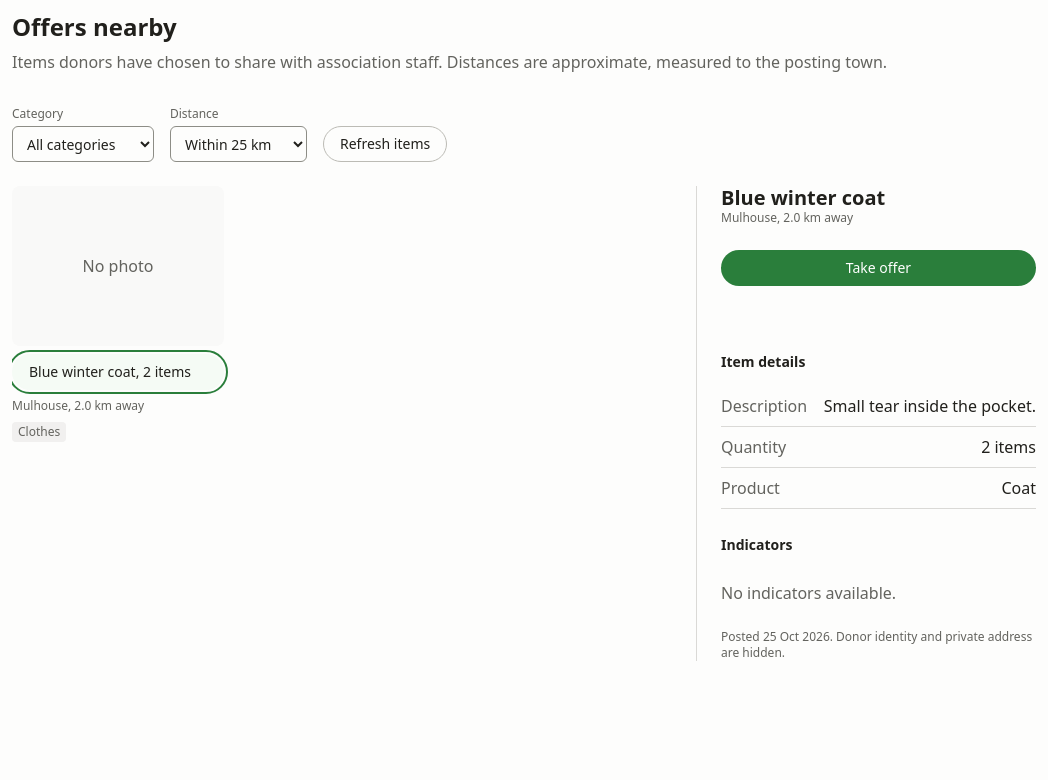
Test case: filters nearby posted items and handles empty results
Expected: the heading "Blue winter coat" is shown, [721, 184, 885, 211]
Expected: the element named "Selected item" shows "Small tear inside the pocket.", [824, 395, 1036, 417]
Select "Food" in the dropdown named "Category" at (83, 144), box [12, 126, 154, 162]
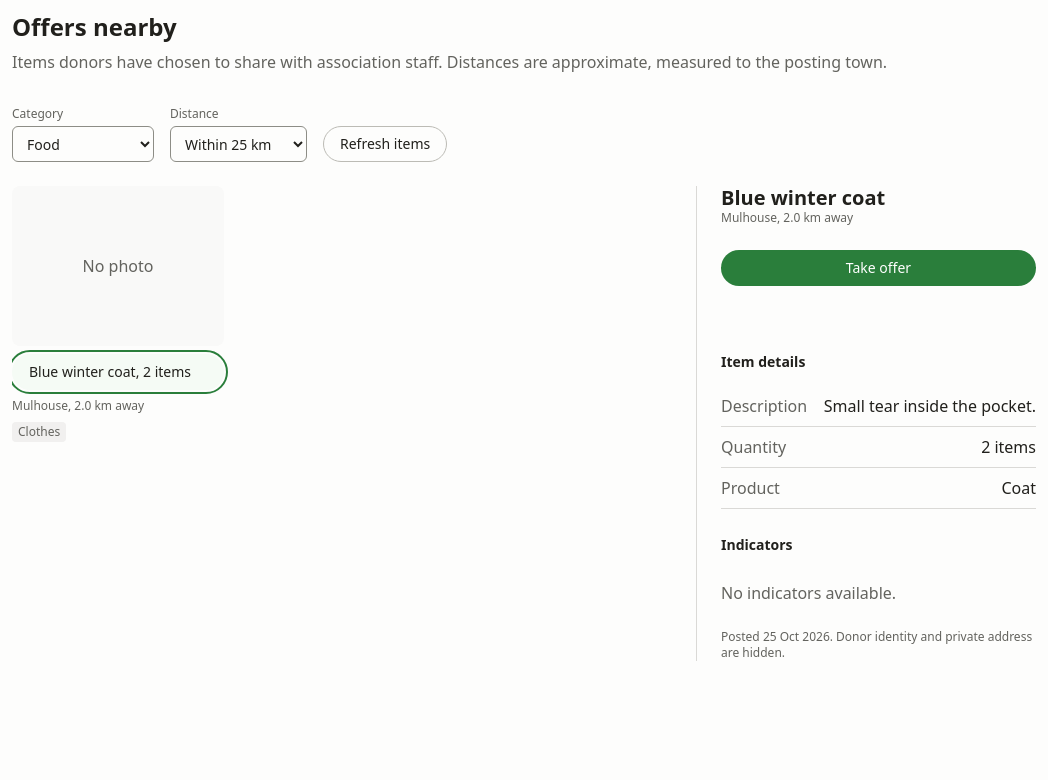
Select "Within 50 km" in the dropdown named "Distance" at (238, 144), box [170, 126, 307, 162]
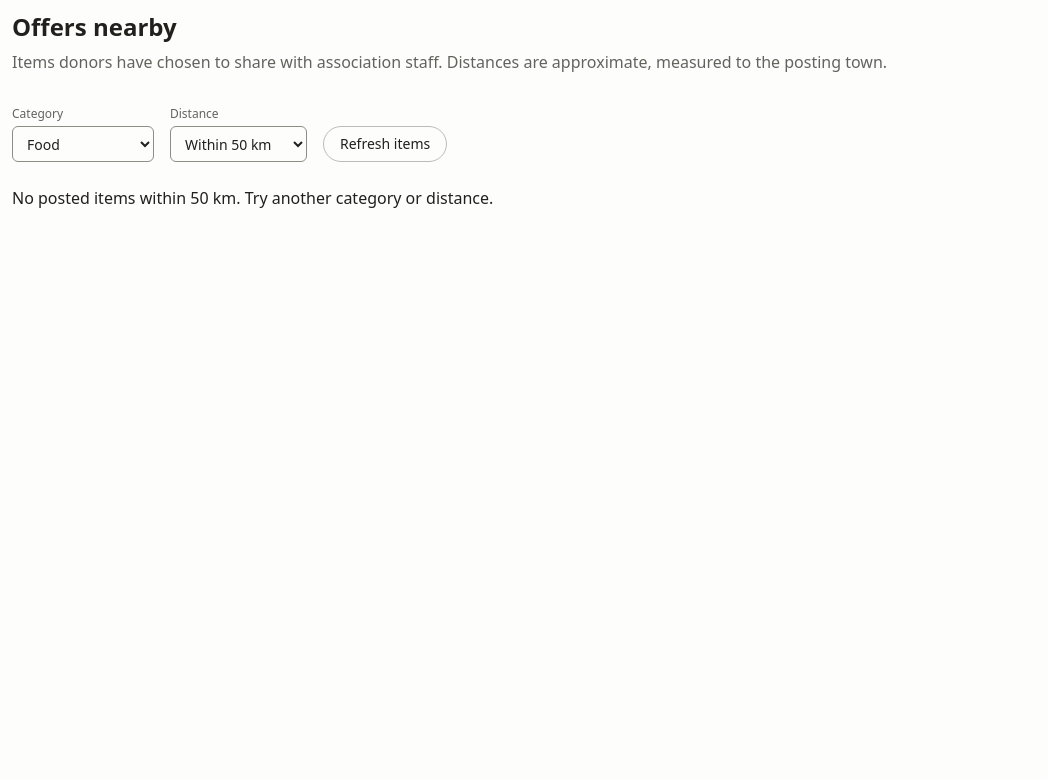
Expected: the text "No posted items" is shown, [12, 187, 190, 209]
